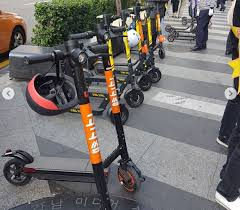kick_body: (31, 156, 96, 181)
kick_handler: (23, 40, 109, 65), (69, 23, 127, 40)
kick_wheel: (5, 157, 29, 184), (118, 165, 141, 193), (125, 88, 145, 107), (138, 74, 151, 90), (159, 49, 165, 58), (168, 35, 174, 42)
